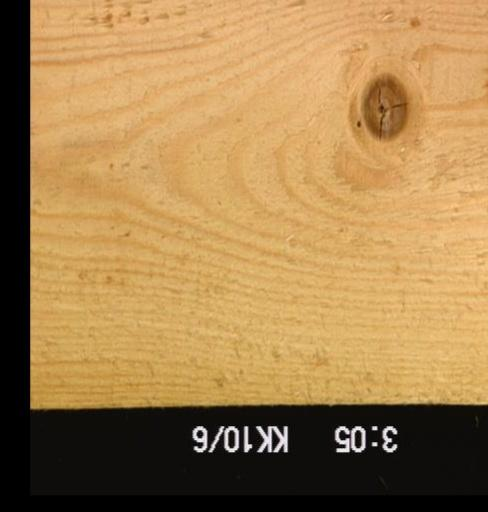sound_knot: (359, 71, 409, 141)
